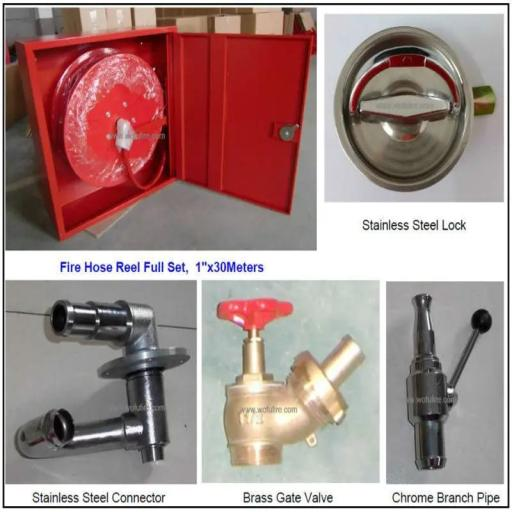fire_hose: (20, 26, 310, 232)
